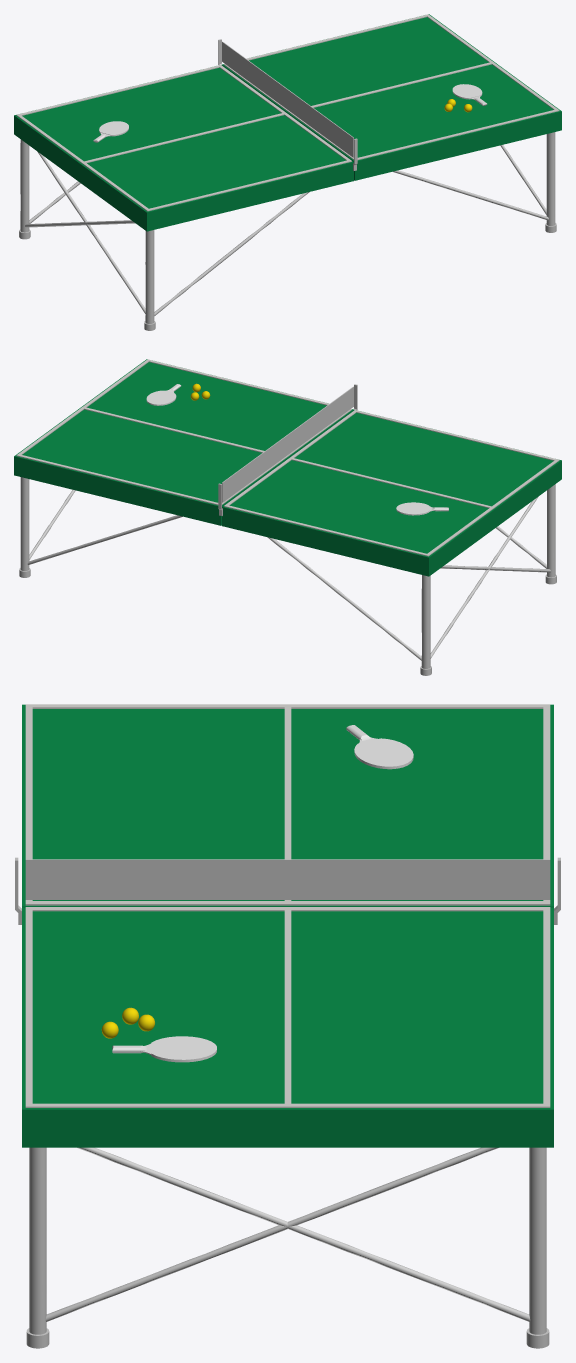
File: ping pong gltf.gltf
3 views of the same model, one above another, from view 1: azimuth 30°, elevation 25°; view 2: azimuth 150°, elevation 25°; view 3: azimuth 270°, elevation 25° (orthographic). The views are drawn at different scales.
Visible parts, largest first — view 1: Extrusion [1914], Extrusion [2017], Extrusion [2589], Extrusion [3348], Extrusion [3849], Extrusion [2241], Extrusion [2249], Extrusion [2118], Extrusion [2314], Extrusion [3792], Extrusion [2257], Extrusion [2485] (+3 smaller); view 2: Extrusion [1914], Extrusion [2017], Extrusion [2589], Extrusion [3348], Extrusion [3849], Extrusion [2221], Extrusion [2118], Extrusion [2241], Extrusion [3792], Extrusion [2526], Extrusion [2350], Extrusion [2508] (+3 smaller); view 3: Extrusion [1914], Extrusion [3849], Extrusion [2017], Extrusion [3348], Extrusion [2589], Extrusion [3792], Extrusion [2539], Extrusion [2543], Extrusion [2221], Extrusion [2249], Ping Pong Racket Ping Pong Racket [5828], Ping Pong Racket Ping Pong Racket [5828]001.
Boxes of the visible parts, box(x1,y1,x2,y2) form: Extrusion [1914]: box(14, 14, 561, 215); Extrusion [2017]: box(14, 114, 561, 231); Extrusion [2589]: box(16, 65, 351, 211); Extrusion [3348]: box(224, 14, 559, 159); Extrusion [3849]: box(223, 45, 351, 154); Extrusion [2241]: box(145, 230, 154, 323); Extrusion [2249]: box(546, 132, 555, 225); Extrusion [2118]: box(20, 139, 29, 232); Extrusion [2314]: box(154, 192, 309, 315); Extrusion [3792]: box(222, 41, 353, 157); Extrusion [2257]: box(37, 151, 145, 313); Extrusion [2485]: box(392, 170, 548, 220); Extrusion [1914]: box(14, 359, 561, 560); Extrusion [2017]: box(14, 459, 561, 576); Extrusion [2589]: box(224, 410, 559, 556); Extrusion [3348]: box(16, 359, 351, 505); Extrusion [3849]: box(224, 390, 352, 499); Extrusion [2221]: box(20, 477, 29, 570); Extrusion [2118]: box(421, 575, 430, 668); Extrusion [2241]: box(547, 484, 555, 577); Extrusion [3792]: box(222, 386, 353, 502); Extrusion [2526]: box(267, 537, 421, 660); Extrusion [2350]: box(430, 496, 538, 658); Extrusion [2508]: box(27, 515, 182, 564); Extrusion [1914]: box(22, 704, 553, 1115); Extrusion [3849]: box(32, 863, 543, 896); Extrusion [2017]: box(22, 1116, 553, 1147); Extrusion [3348]: box(25, 907, 550, 1107); Extrusion [2589]: box(25, 704, 550, 905); Extrusion [3792]: box(25, 859, 550, 899); Extrusion [2539]: box(45, 1147, 498, 1321); Extrusion [2543]: box(77, 1147, 530, 1321); Extrusion [2221]: box(529, 1147, 546, 1334); Extrusion [2249]: box(29, 1147, 46, 1334); Ping Pong Racket Ping Pong Racket [5828]: box(112, 1036, 216, 1062); Ping Pong Racket Ping Pong Racket [5828]001: box(346, 725, 413, 769).
Bounding box in the file's own units: 2.74 × 0.9106 × 1.56.
